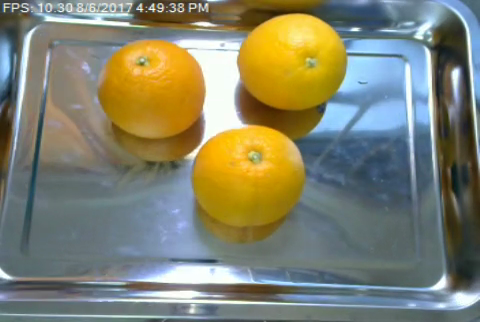Orange: (191, 125, 305, 227), (96, 38, 207, 139), (235, 11, 346, 110)
